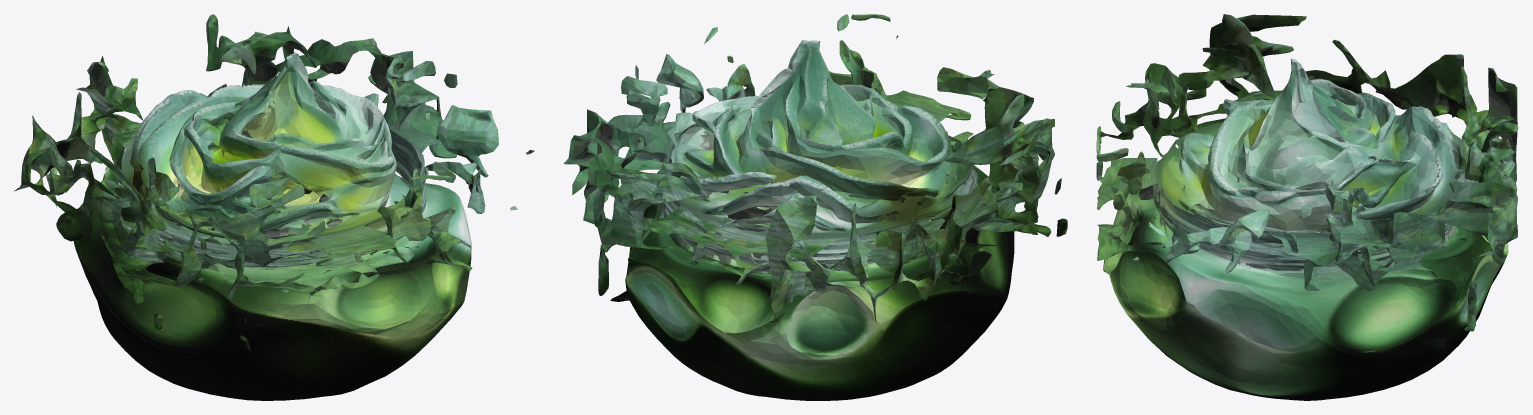
The model's file is aloe-fiber-face-scrub-futuristic.jpeg.glb.
3 views of the same model, side by side, from view 1: azimuth 30°, elevation 25°; view 2: azimuth 150°, elevation 25°; view 3: azimuth 270°, elevation 25° (orthographic). The views are drawn at different scales.
Parts seen in each view (by area): view 1: world; view 2: world; view 3: world.
Boxes of the visible parts, bbox=[...] form: world: bbox=[14, 14, 534, 400]; world: bbox=[563, 14, 1067, 400]; world: bbox=[1096, 14, 1518, 400].
Bounding box in the file's own units: 1 × 0.7776 × 1.
Materials: 1 (1 with a texture image).
